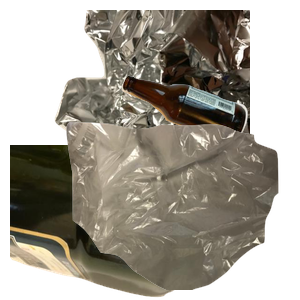glass: (119, 73, 300, 207)
metal: (52, 10, 292, 190)
plastic: (10, 145, 213, 300)
trash: (64, 120, 300, 300)
